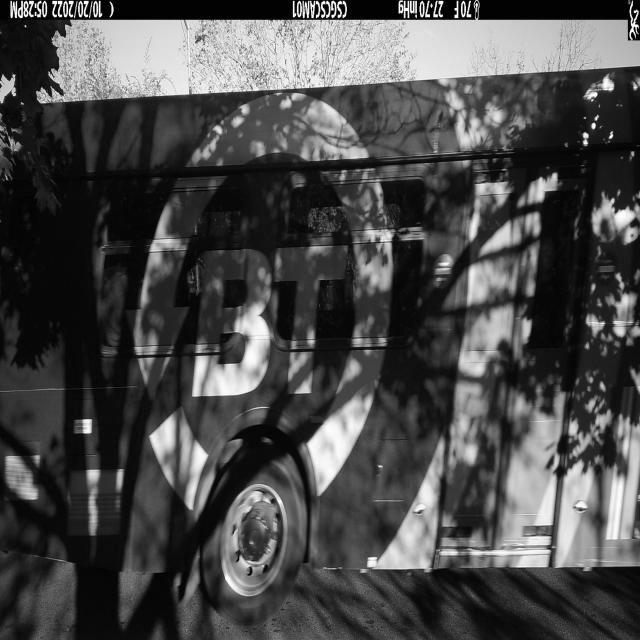Bus: (0, 66, 640, 631)
